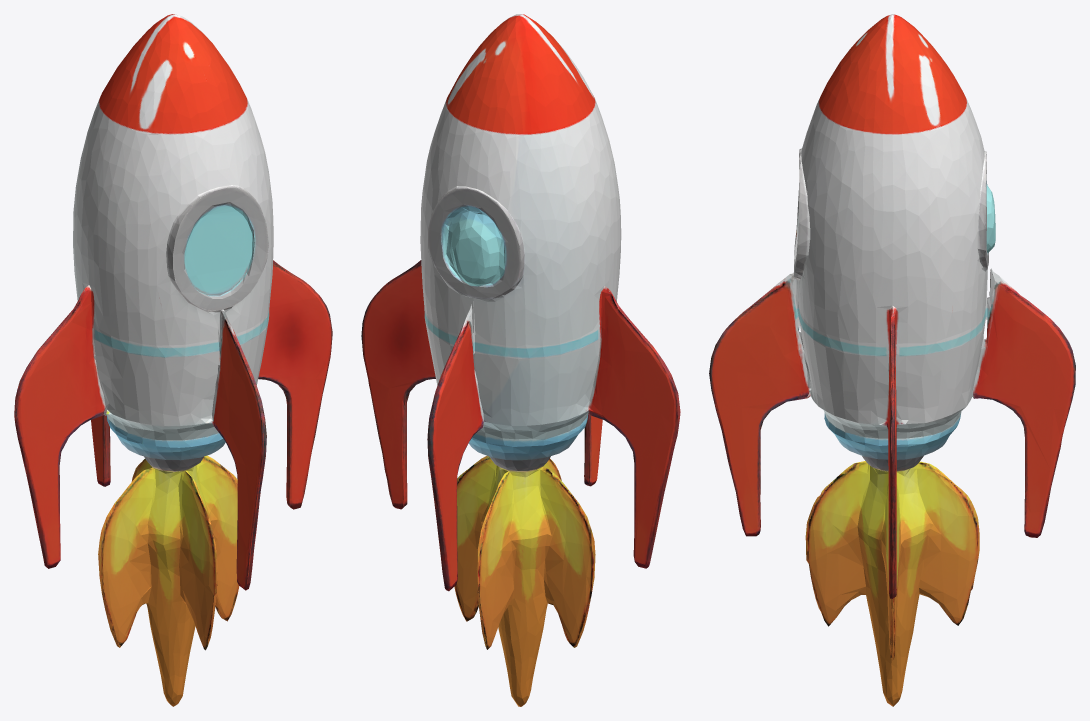
The model's file is 9564819a-6988-4a68-a415-dca50e1ccaf9.glb.
3 renders of one model, left to right at view 1: azimuth 30°, elevation 25°; view 2: azimuth 150°, elevation 25°; view 3: azimuth 270°, elevation 25°, orthographic.
Visible parts, largest first — view 1: world; view 2: world; view 3: world.
Part boxes in pixels (<box>): world: <box>14,14,332,706</box>; world: <box>361,14,680,706</box>; world: <box>709,14,1075,706</box>.
Bounding box in the file's own units: 0.4718 × 0.9826 × 0.4727.
1 material, 1 textured.
